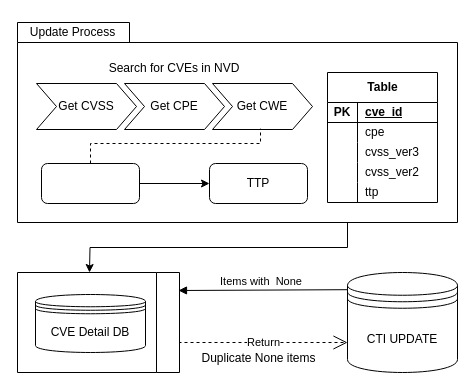
The diagram is 475 pixels wide and 390 high, and some of its shapes have lost their labels. Here are the shapes that lost their labels. From the top down, the centre of each, then its label:
At (x=90, y=183): "Capec.json".
At (x=98, y=322): "SEARCH".
